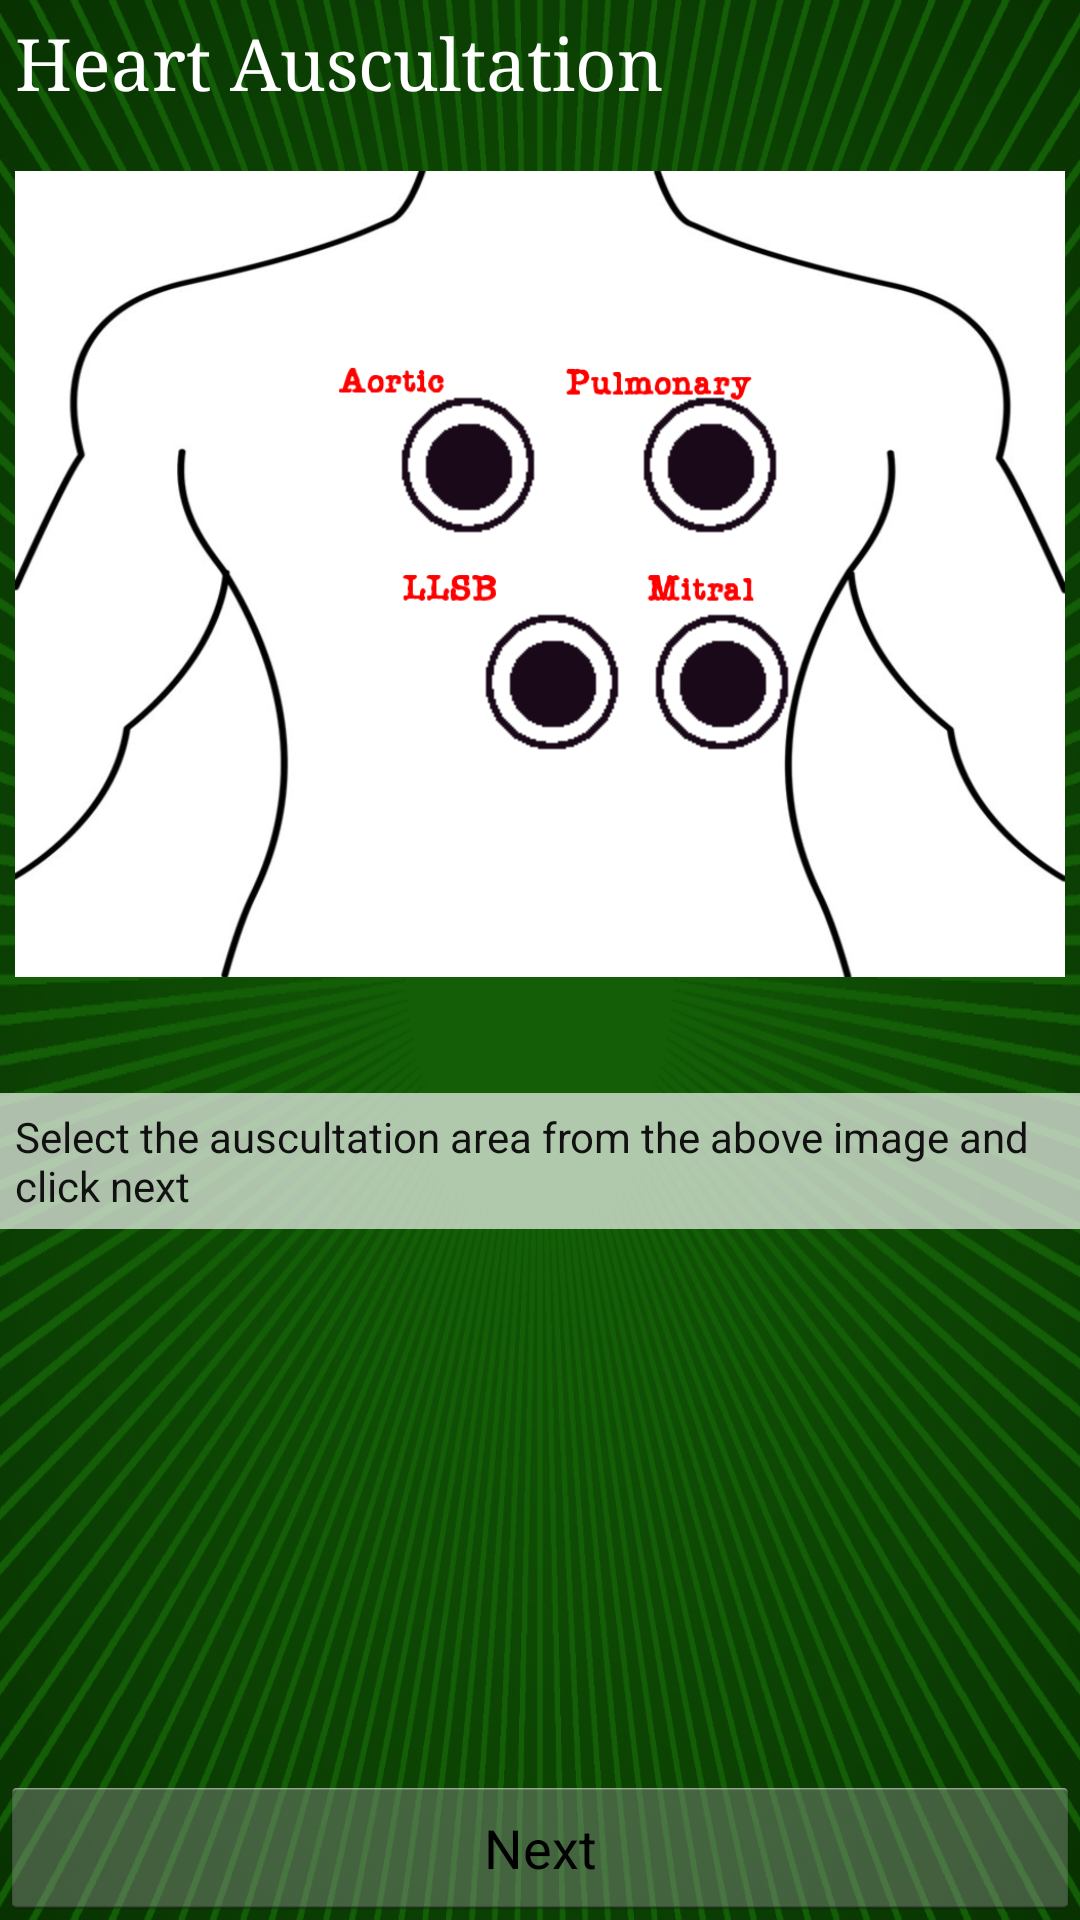

Screen size 1080px x 1920px. Icon name, then its center in pixels as [x,y]:
selection point: [468,465], [711,467], [552,682], [722,682]
